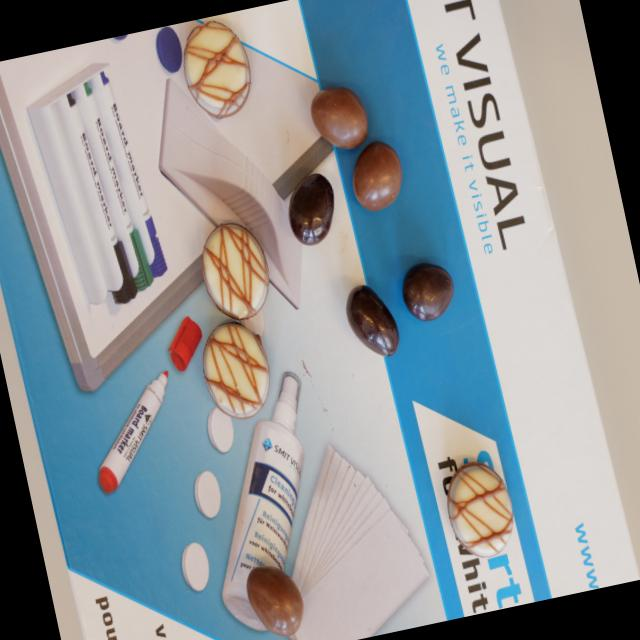Creme_brulee: (194, 216, 276, 326), (440, 456, 522, 564), (195, 317, 278, 423), (175, 13, 256, 121)
Jelly_Black: (341, 277, 403, 362), (282, 171, 343, 248), (397, 255, 461, 328)
Jelly_Milk: (241, 558, 309, 640), (308, 80, 372, 154), (346, 138, 408, 213)
